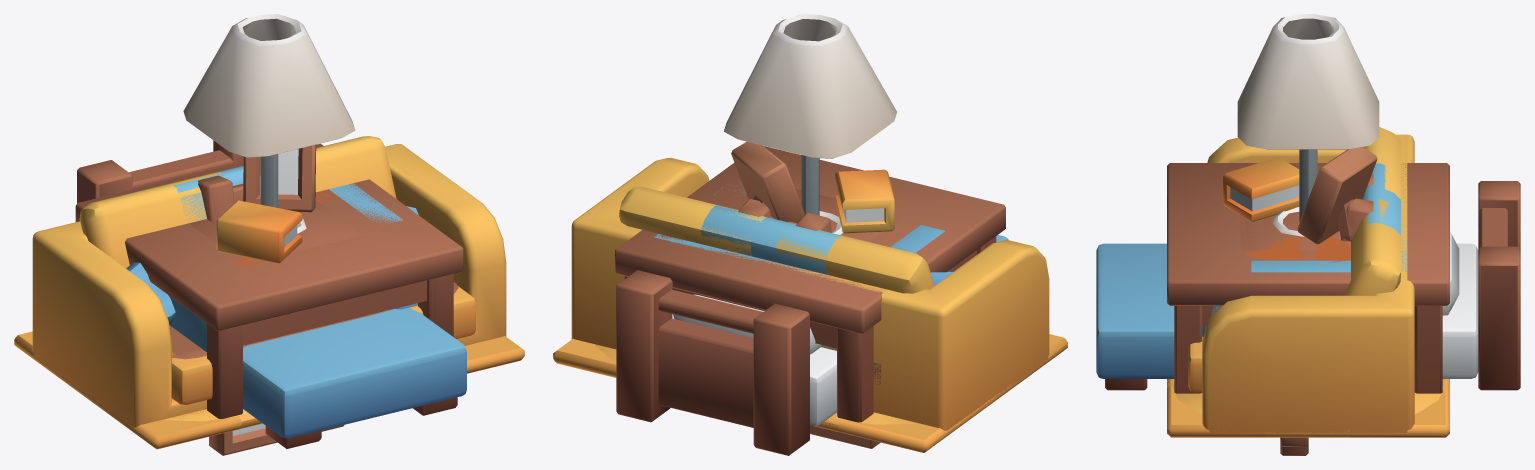
The model's file is kaykit-props.glb.
3 views of the same model, side by side, from view 1: azimuth 30°, elevation 25°; view 2: azimuth 150°, elevation 25°; view 3: azimuth 270°, elevation 25° (orthographic). The views are drawn at different scales.
Visible parts, largest first — view 1: couch_pillows, table_medium, bed_single_A, lamp_standing, cabinet_small_decorated, rug_rectangle_stripes_A, armchair, chair_A, pictureframe_large_A, table_low, rug_oval_A; view 2: couch_pillows, bed_single_A, table_medium, lamp_standing, cabinet_small_decorated, armchair, rug_rectangle_stripes_A, chair_A, rug_oval_A, pictureframe_large_A; view 3: couch_pillows, table_medium, bed_single_A, lamp_standing, cabinet_small_decorated, rug_rectangle_stripes_A, armchair, table_round_A_small, rug_oval_A, chair_A.
Boxes of the visible parts, <box> form: couch_pillows: <box>32,136,506,429</box>; table_medium: <box>75,143,463,418</box>; bed_single_A: <box>77,140,466,448</box>; lamp_standing: <box>183,14,355,207</box>; cabinet_small_decorated: <box>189,144,362,263</box>; rug_rectangle_stripes_A: <box>14,331,524,449</box>; armchair: <box>168,165,417,351</box>; chair_A: <box>198,175,243,221</box>; pictureframe_large_A: <box>209,423,344,455</box>; table_low: <box>169,282,458,359</box>; rug_oval_A: <box>62,376,262,428</box>; couch_pillows: <box>571,157,1049,432</box>; bed_single_A: <box>616,235,1008,455</box>; table_medium: <box>615,146,1005,422</box>; lamp_standing: <box>724,14,896,215</box>; cabinet_small_decorated: <box>731,141,904,241</box>; armchair: <box>654,184,953,350</box>; rug_rectangle_stripes_A: <box>553,334,1067,452</box>; chair_A: <box>738,199,831,232</box>; rug_oval_A: <box>595,344,1019,428</box>; pictureframe_large_A: <box>810,425,880,448</box>; couch_pillows: <box>1188,127,1414,432</box>; table_medium: <box>1167,163,1449,393</box>; bed_single_A: <box>1096,181,1520,390</box>; lamp_standing: <box>1237,14,1379,221</box>; cabinet_small_decorated: <box>1223,147,1377,250</box>; rug_rectangle_stripes_A: <box>1167,379,1449,437</box>; armchair: <box>1202,163,1407,337</box>; table_round_A_small: <box>1243,220,1408,262</box>; rug_oval_A: <box>1167,379,1449,437</box>; chair_A: <box>1341,173,1373,241</box>.
Size of the model in its own units: 3 by 3.12 by 3.
Materials: 3 (3 with a texture image).
